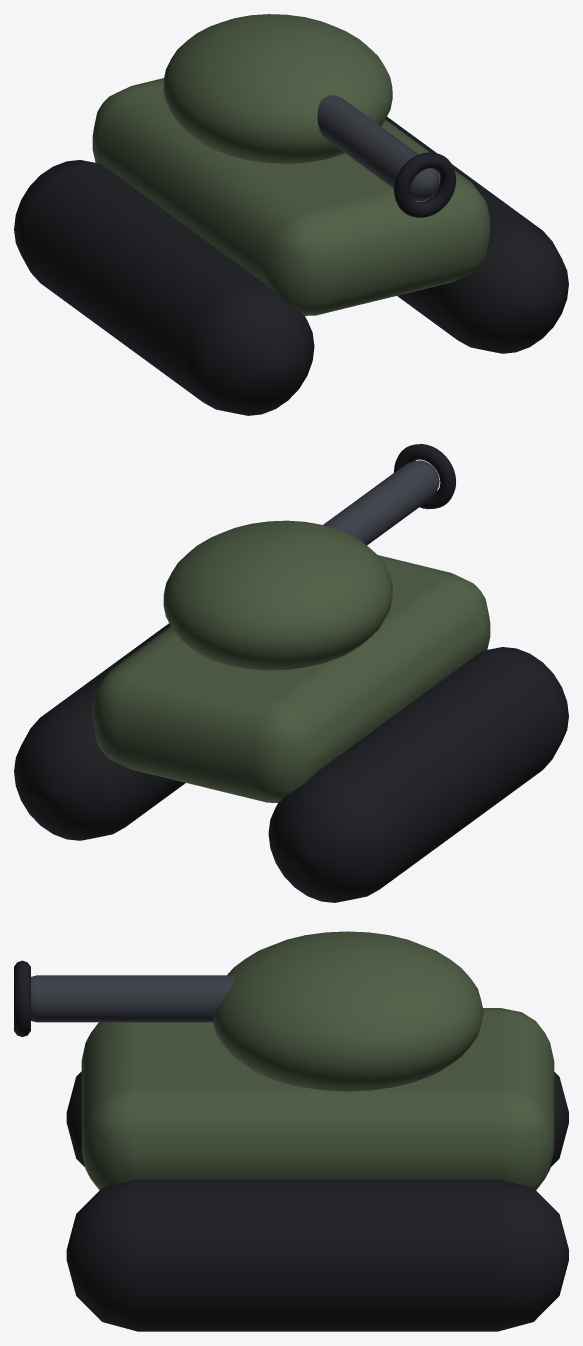
File: kampvogn.glb
The picture shows the model from 3 angles, top to bottom: view 1: azimuth 30°, elevation 25°; view 2: azimuth 150°, elevation 25°; view 3: azimuth 270°, elevation 25°; orthographic projection. The views are drawn at different scales.
Visible parts, largest first — view 1: krop_net; view 2: krop_net; view 3: krop_net.
Boxes of the visible parts, x1,y1,x2,y2 form: krop_net: (14,14,568,415); krop_net: (14,444,568,902); krop_net: (14,931,568,1331).
Bounding box in the file's own units: 1.62 × 1.14 × 1.88.
